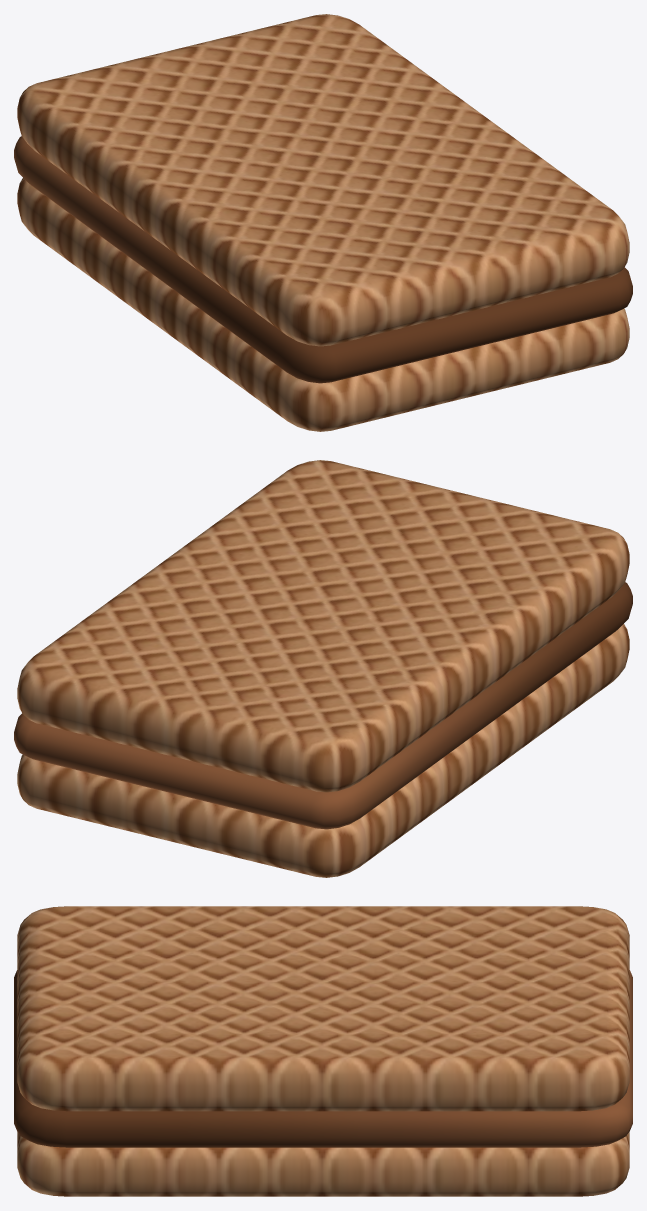
The model's file is candy_waf_17.fbx.
3 views of the same model, one above another, from view 1: azimuth 30°, elevation 25°; view 2: azimuth 150°, elevation 25°; view 3: azimuth 270°, elevation 25° (orthographic).
Parts seen in each view (by area): view 1: c_w_17; view 2: c_w_17; view 3: c_w_17.
Part boxes in pixels (bbox=[...]): c_w_17: bbox=[14, 14, 632, 431]; c_w_17: bbox=[14, 460, 632, 877]; c_w_17: bbox=[14, 906, 632, 1196].
Size of the model in its own units: 115 by 44.04 by 180.
